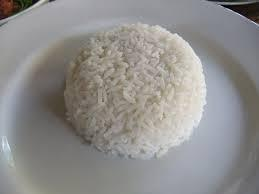makanan_berpati: (97, 37, 175, 141)
